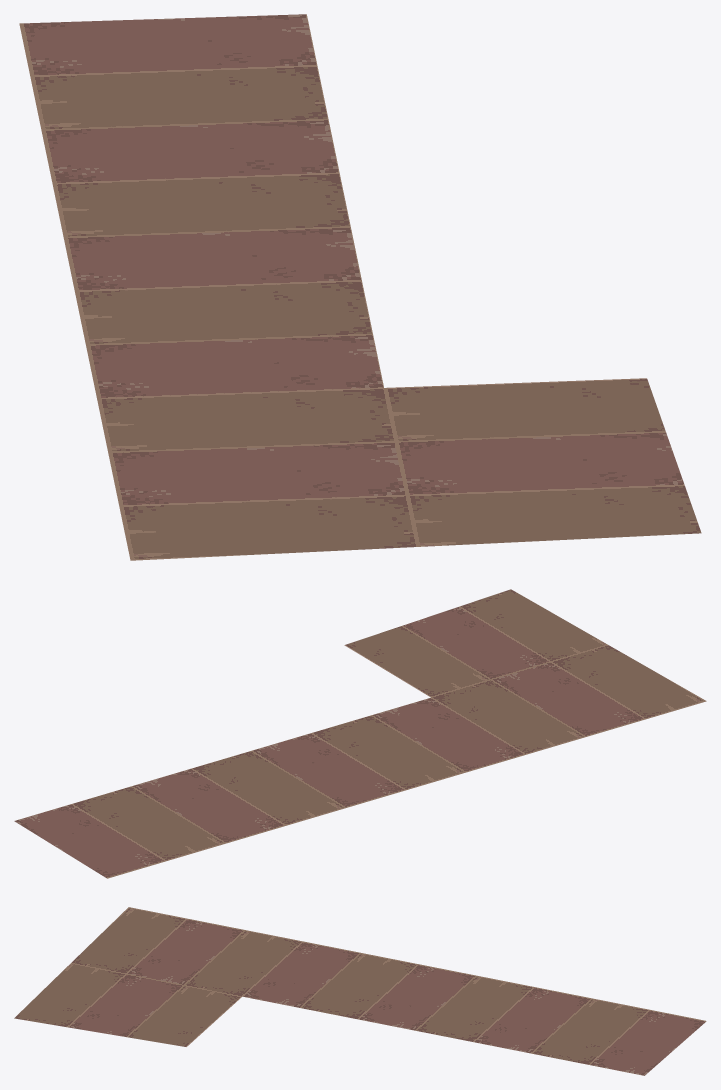
File: kd_stage_135ebf_2_52.glb
3 views of the same model, one above another, from view 1: azimuth 30°, elevation 25°; view 2: azimuth 150°, elevation 25°; view 3: azimuth 270°, elevation 25° (orthographic). The views are drawn at different scales.
Visible parts, largest first — view 1: kd_stage_135ebf_2_52; view 2: kd_stage_135ebf_2_52; view 3: kd_stage_135ebf_2_52.
Boxes of the visible parts, x1,y1,x2,y2 form: kd_stage_135ebf_2_52: (19,14,701,560); kd_stage_135ebf_2_52: (14,589,706,878); kd_stage_135ebf_2_52: (14,907,706,1075).
Size of the model in its own units: 11.91 by 7.15e-07 by 20.65.
Materials: 1 (1 with a texture image).
